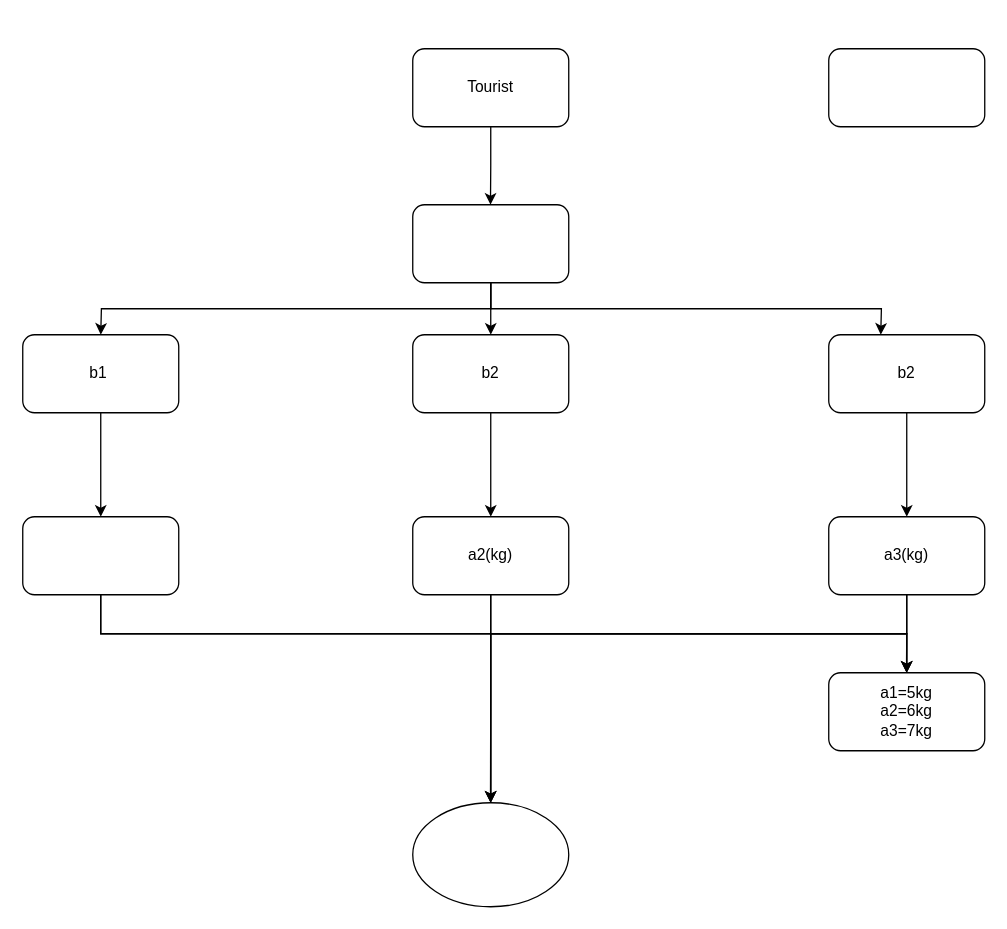
Some shapes in this 1007 by 929 pixel diagram are drawn without their labels. Here are the shapes that lost their labels. From the top down, the centre of each, then its label:
At point 906,87: "a1=b1(pupil) a2=b2(pupil) a3=b3(pupil)".
At point 490,243: "Tent".
At point 100,555: "a1(kg)".
At point 490,854: "total:18(kg)".
